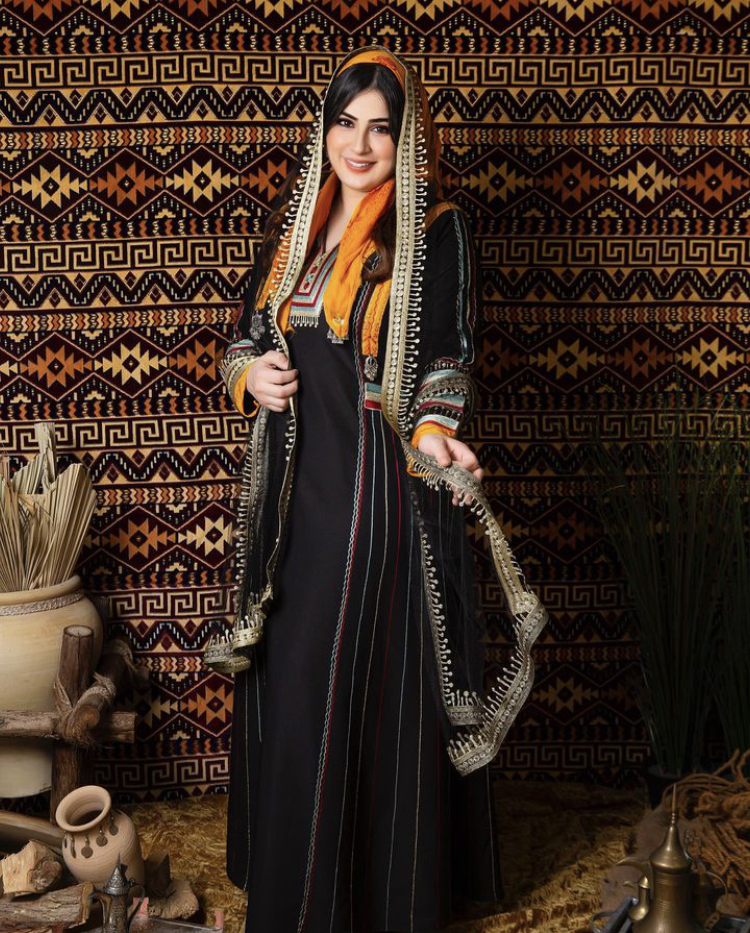Saudi_Founding_Day: (194, 43, 553, 933)
